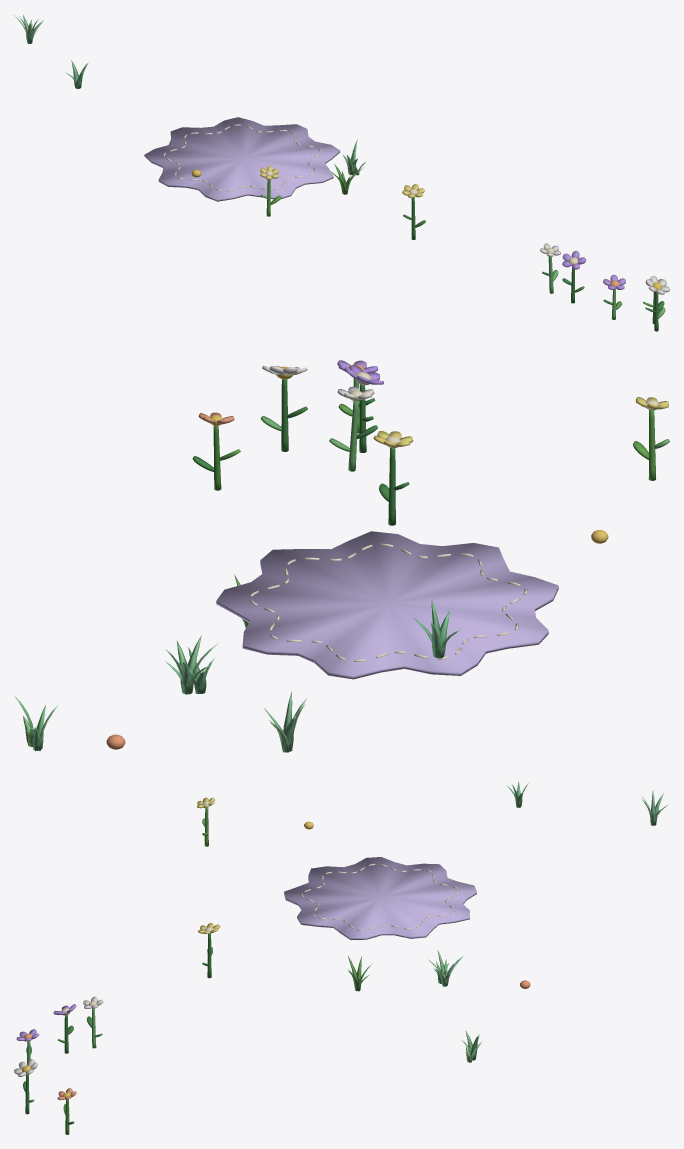
Rendered from W4_FloraRing_7_8.fbx.
3 renders of one model, top to bottom at view 1: azimuth 30°, elevation 25°; view 2: azimuth 150°, elevation 25°; view 3: azimuth 270°, elevation 25°, orthographic. The views are drawn at different scales.
Visible parts, largest first — view 1: W4_FloraRing_7_8; view 2: W4_FloraRing_7_8; view 3: W4_FloraRing_7_8.
Boxes of the visible parts, x1,y1,x2,y2 form: W4_FloraRing_7_8: [14, 15, 669, 331]; W4_FloraRing_7_8: [15, 360, 669, 752]; W4_FloraRing_7_8: [14, 781, 668, 1134].
Size of the model in its own units: 1.73 by 0.809 by 2.61.
